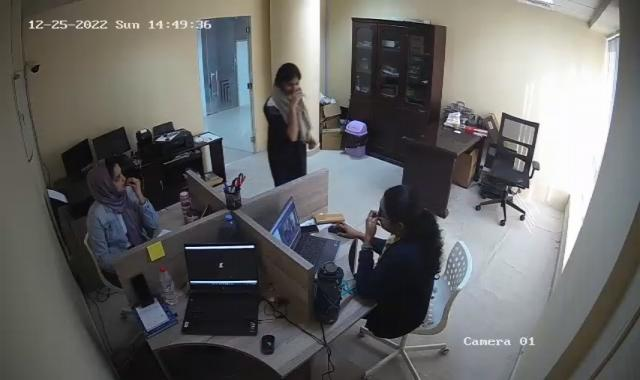no_hairnet: (375, 185, 419, 232), (86, 160, 125, 198), (274, 61, 302, 98)
